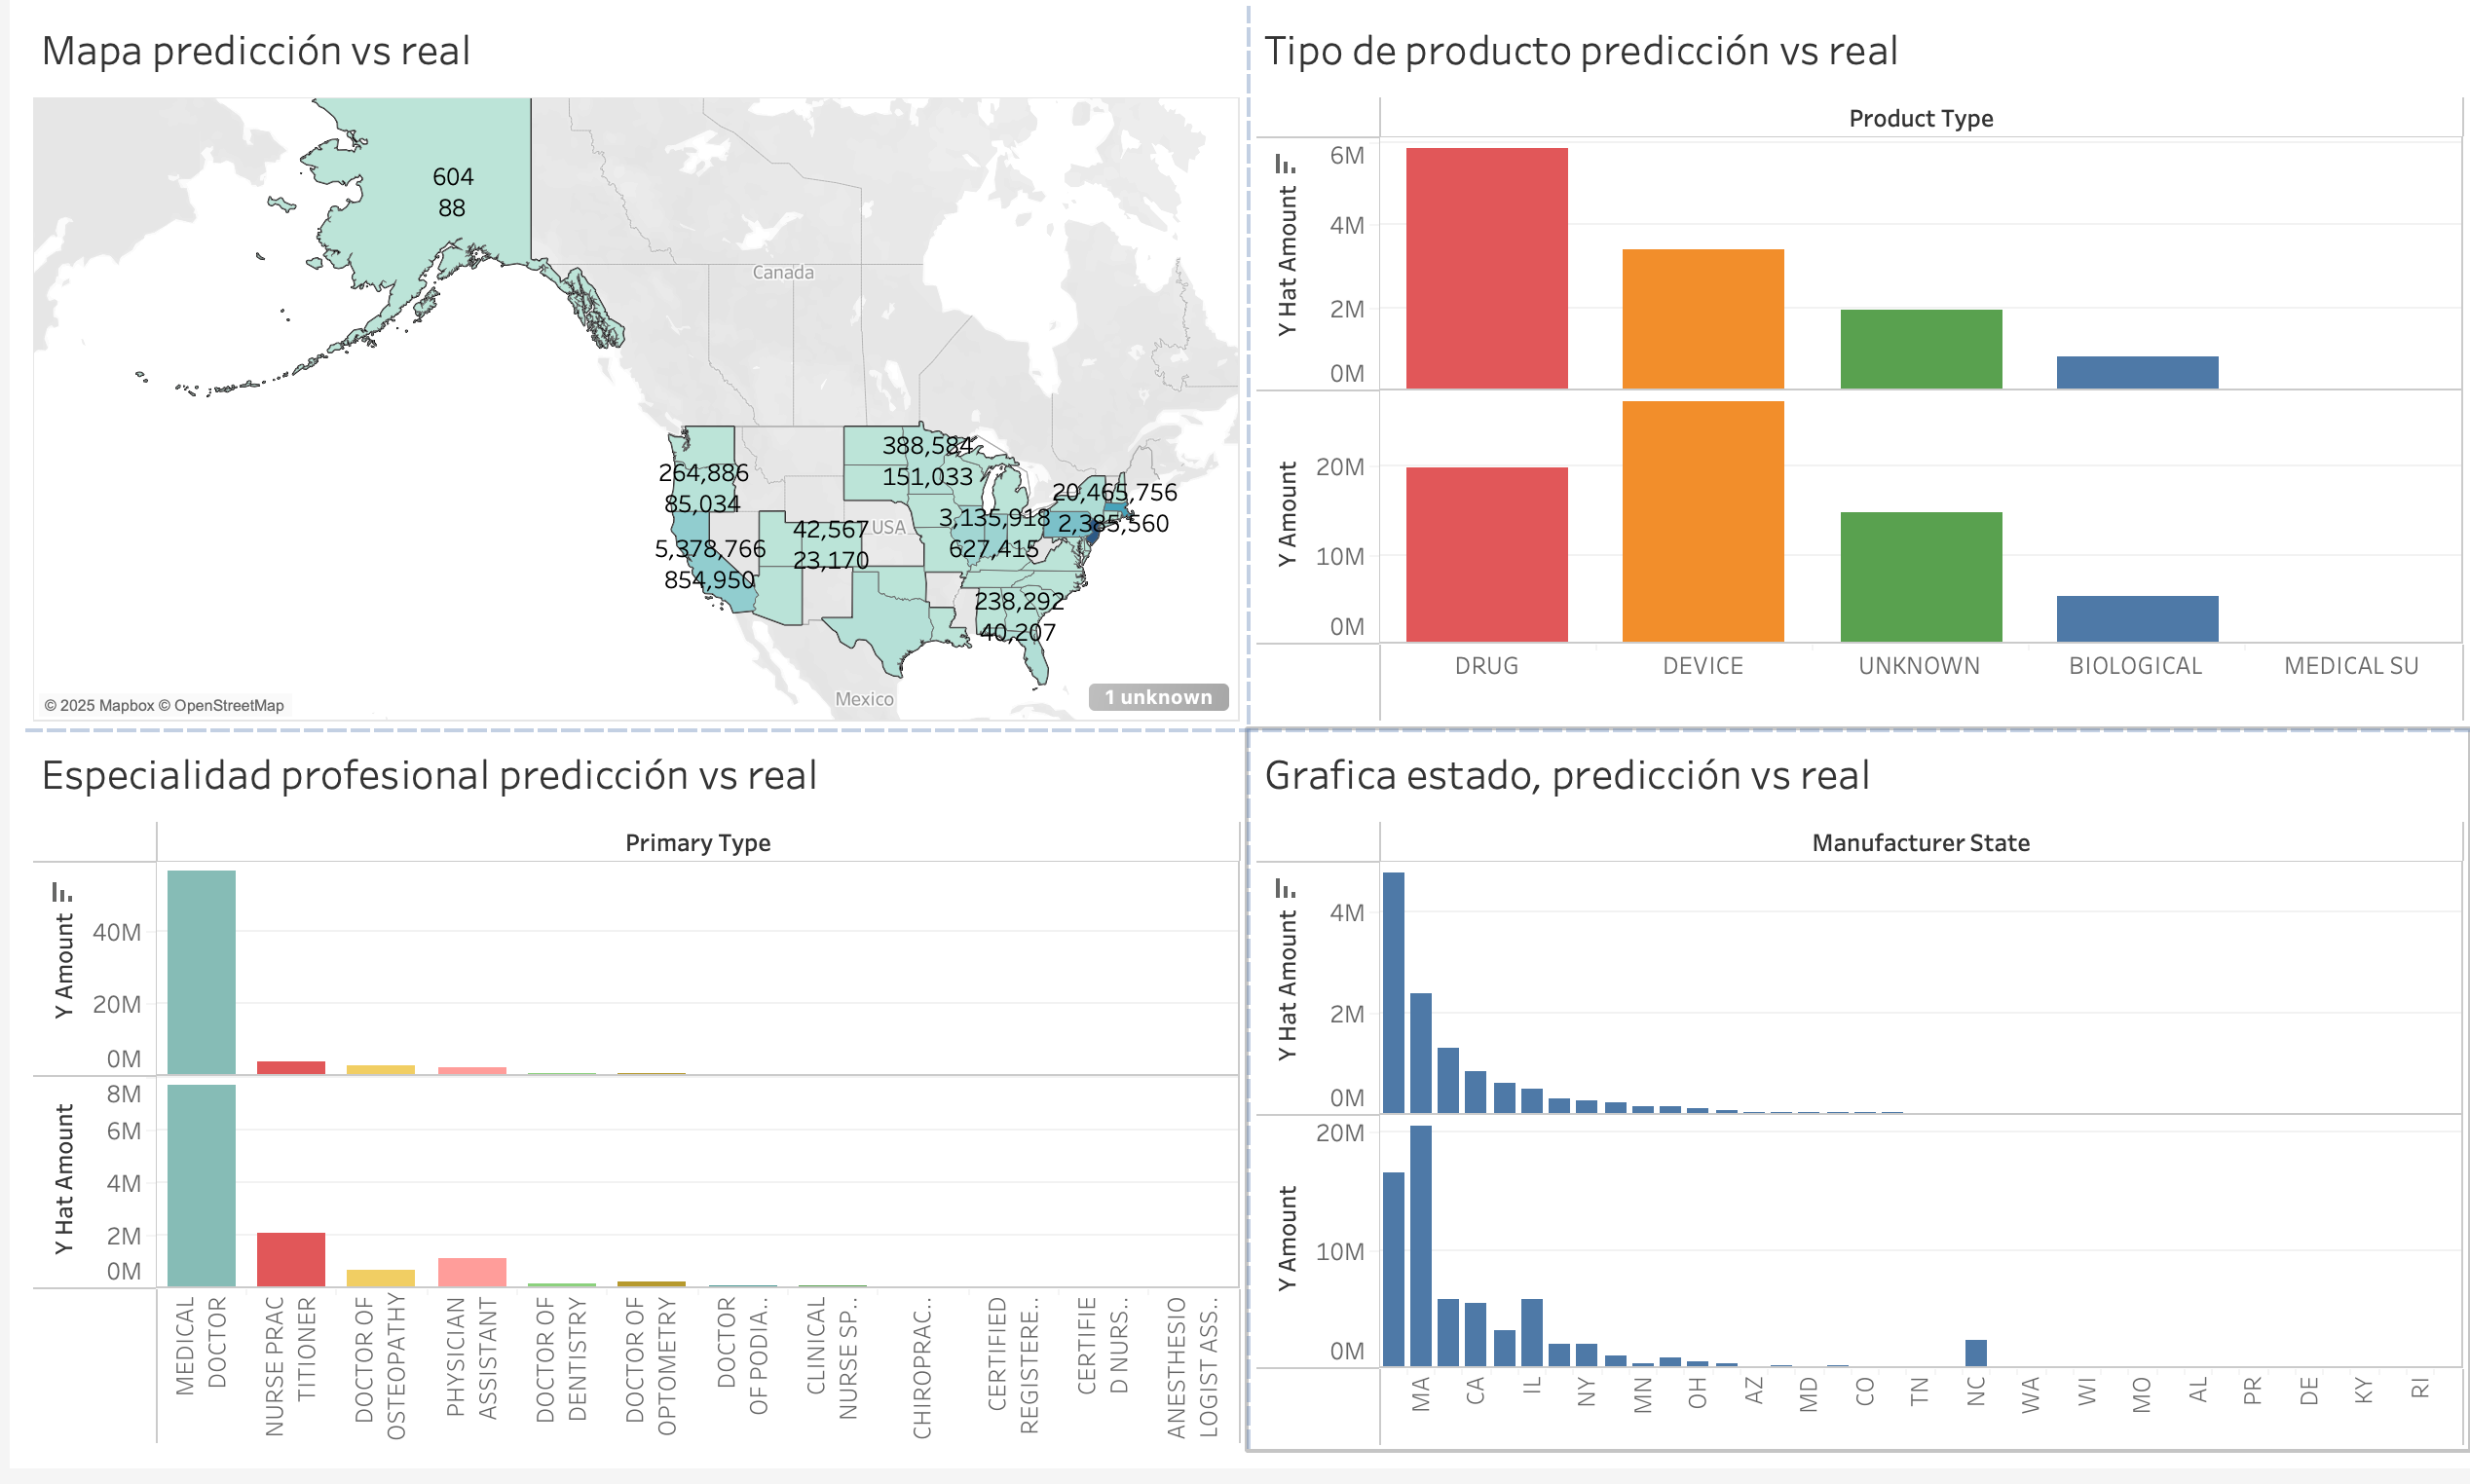

What the dashboard file says about the page in this screenshot:
{"tool":"tableau","page":{"name":"Dashboard 2","canvas":[1000,1000],"units":"permille","ordinal":1},"visuals":[{"type":"worksheet","title":"Sheet 7","mark":"Automatic","box":[6.3,10.5,493.7,489.5]},{"type":"worksheet","title":"Sheet 6","mark":"Automatic","rows":["y_hat_amount","y_amount"],"cols":["product_type"],"box":[500,10.5,493.7,489.5]},{"type":"worksheet","title":"Sheet 8","mark":"Automatic","rows":["y_amount","y_hat_amount"],"cols":["primary_type"],"box":[6.3,500,493.7,489.5]},{"type":"worksheet","title":"Sheet 9","mark":"Automatic","rows":["y_hat_amount","y_amount"],"cols":["manufacturer_state"],"box":[500,500,493.7,489.5]}]}

Visuals, with their boxes on the dashboard's canvas, which has no fixed pixel size, in thousandths of its width and height (x1, y1, x2, y2). These are canvas units, not pixel positions in the 2470x1484 screenshot, which may show the page scaled, cropped or inside an application window:
"Sheet 7" worksheet: bbox(6, 10, 500, 500)
"Sheet 6" worksheet: bbox(500, 10, 994, 500)
"Sheet 8" worksheet: bbox(6, 500, 500, 990)
"Sheet 9" worksheet: bbox(500, 500, 994, 990)
